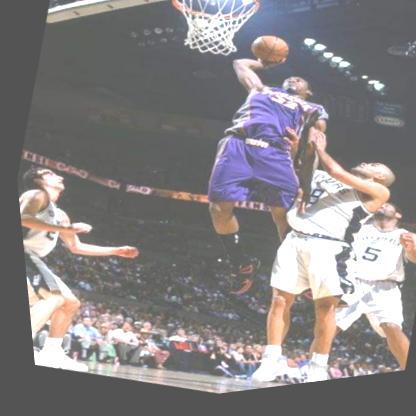basketball: (244, 37, 293, 75)
rim: (156, 0, 267, 74)
